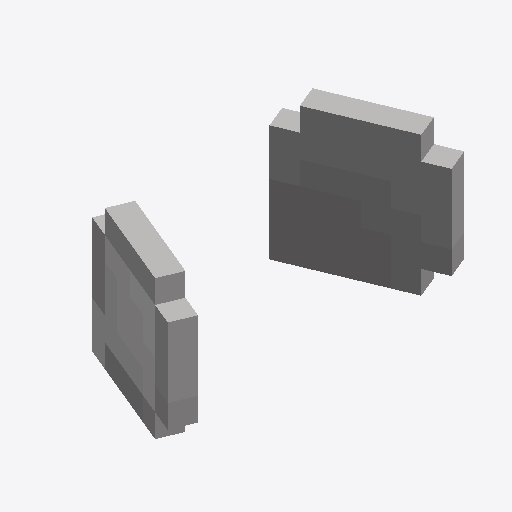
Isometric view (azimuth 45°, elevation 35.3°) of a Minecraft model made of 6 cuboids, textured from the same repository.
Visible parts, largest first — element 4, element 1, element 6, element 3, element 5, element 2.
Part boxes in pixels (bbox=[...]): element 4: bbox=[269, 108, 463, 275]; element 1: bbox=[92, 214, 197, 429]; element 6: bbox=[300, 88, 433, 160]; element 3: bbox=[105, 201, 184, 304]; element 5: bbox=[269, 233, 433, 295]; element 2: bbox=[92, 325, 184, 438].
Bounding box in the file's own units: 12.76 × 6 × 5.93.